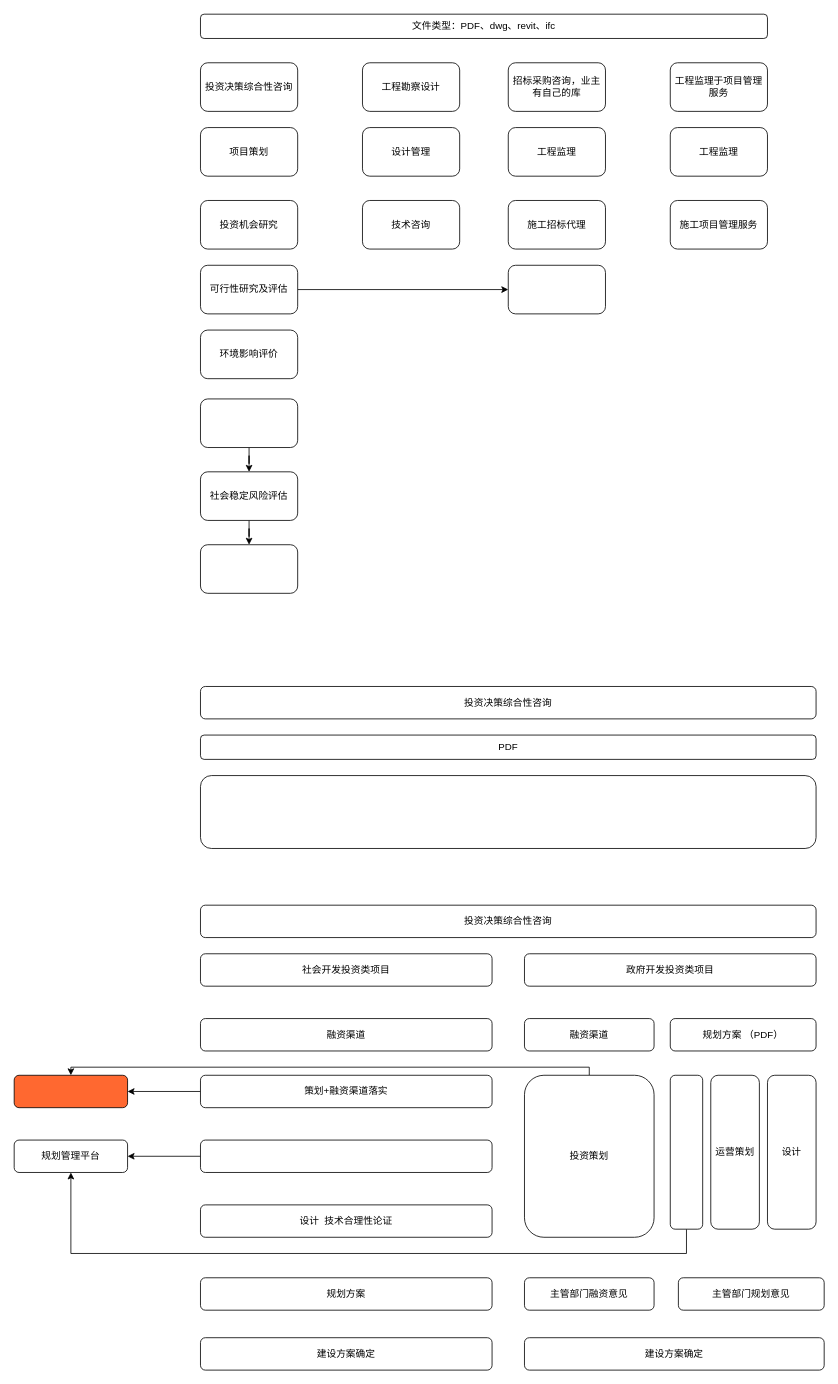
Some shapes in this 838 by 1384 pixel diagram are drawn without their labels. The centre of each missing label's shape, as x and y in pixels:
"PPP咨询" belongs at point 249,423.
"众筹平台" belongs at point 70,1091.
"建设条件单项咨询" belongs at point 249,568.
"材料设备采购管理" belongs at point 556,289.
"管理目标（结论管理，“非过程管理”，结论交圈、互恰与关联）->关键指标识别 （为什么控制成本， 控制不住可研的质量 人为错误，或者是数据 ）" belongs at point 508,811.
"规划" belongs at point 686,1151.
"规划条件置入，规划条件管理" belongs at point 346,1155.
